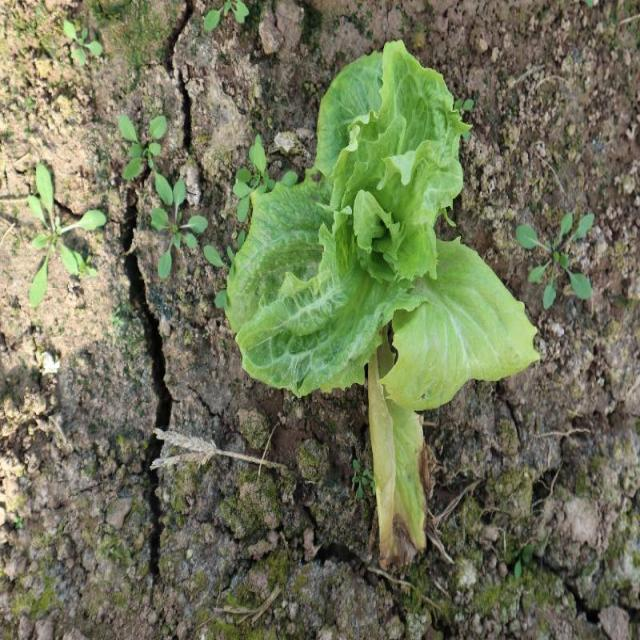crop: (220, 38, 545, 570)
